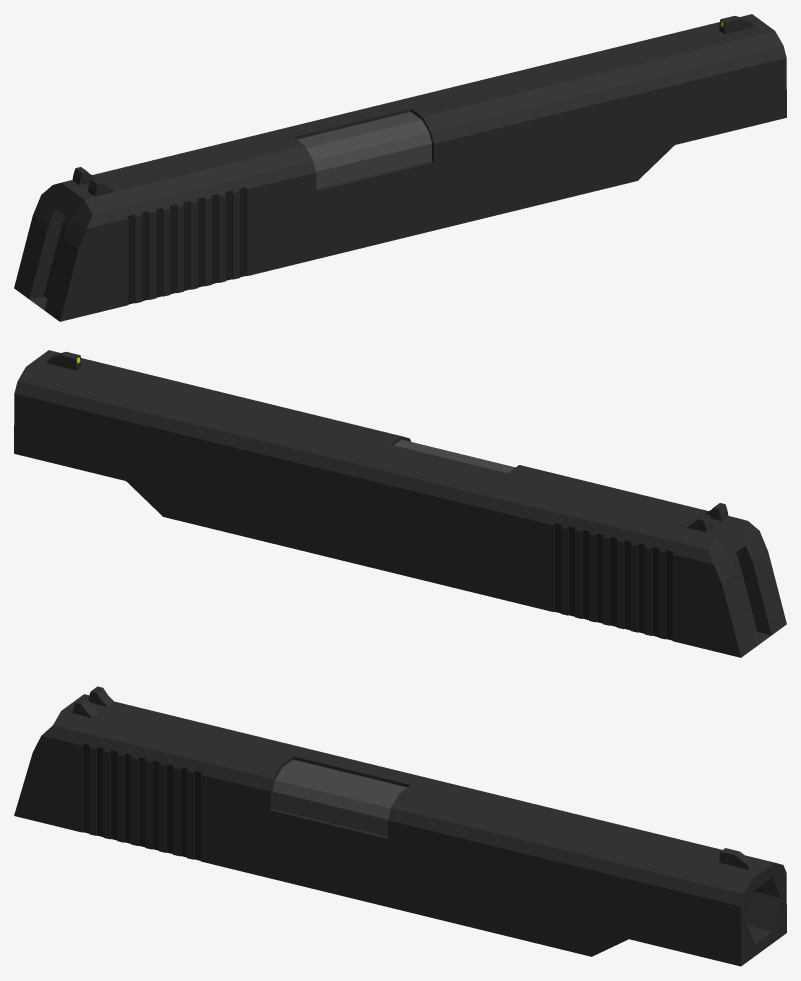
Rendered from Pistol2_01_2.fbx.
3 renders of one model, top to bottom at view 1: azimuth 30°, elevation 25°; view 2: azimuth 150°, elevation 25°; view 3: azimuth 330°, elevation 25°, orthographic.
Visible parts, largest first — view 1: Pistol2_01_2; view 2: Pistol2_01_2; view 3: Pistol2_01_2.
Boxes of the visible parts, bbox=[...] form: Pistol2_01_2: bbox=[14, 14, 786, 321]; Pistol2_01_2: bbox=[14, 350, 786, 657]; Pistol2_01_2: bbox=[14, 686, 786, 966].
Size of the model in its own units: 0.225 by 0.0345 by 0.0246.
